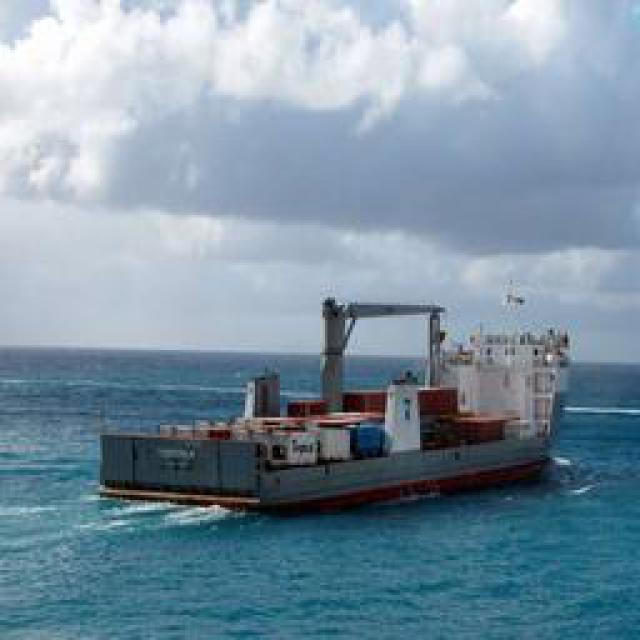Ship: (96, 325, 584, 518)
